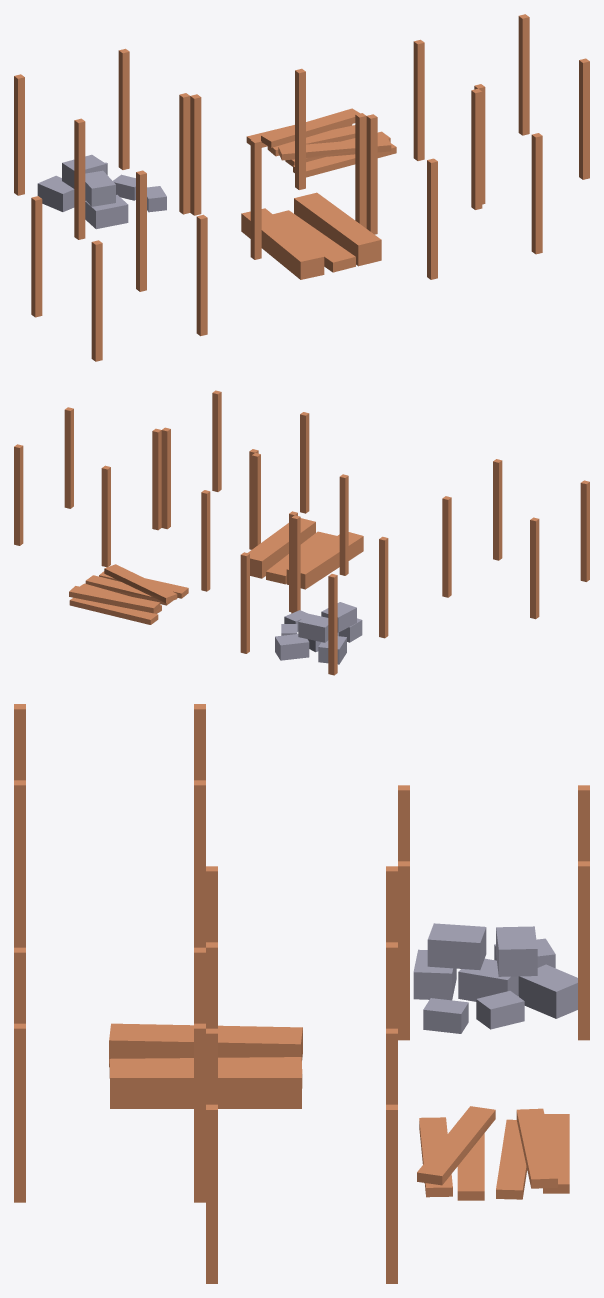
Rendered from Maison2_plan.fbx.
3 views of the same model, one above another, from view 1: azimuth 30°, elevation 25°; view 2: azimuth 150°, elevation 25°; view 3: azimuth 270°, elevation 25° (orthographic). The views are drawn at different scales.
Parts seen in each view (by area): view 1: planks_floorHalf_481, structure_poles_479, structure_poles_478, structure_poles_480, structure_poles_477, structure_poles_476, debris_bricks_482, debris_wood_483; view 2: planks_floorHalf_481, debris_wood_483, structure_poles_476, structure_poles_479, structure_poles_478, debris_bricks_482, structure_poles_480, structure_poles_477; view 3: planks_floorHalf_481, debris_bricks_482, debris_wood_483, structure_poles_476, structure_poles_478, structure_poles_480, structure_poles_479, structure_poles_477.
Boxes of the visible parts, <box> form: planks_floorHalf_481: <box>241,192,381,279</box>; structure_poles_479: <box>31,170,207,361</box>; structure_poles_478: <box>14,48,190,239</box>; structure_poles_480: <box>366,88,542,279</box>; structure_poles_477: <box>190,68,366,259</box>; structure_poles_476: <box>413,14,589,204</box>; debris_bricks_482: <box>37,154,166,229</box>; debris_wood_483: <box>246,108,396,177</box>; planks_floorHalf_481: <box>248,518,363,589</box>; debris_wood_483: <box>69,564,188,624</box>; structure_poles_476: <box>14,407,161,567</box>; structure_poles_479: <box>442,459,589,619</box>; structure_poles_478: <box>240,515,388,675</box>; debris_bricks_482: <box>275,602,362,664</box>; structure_poles_480: <box>161,390,309,549</box>; structure_poles_477: <box>201,453,348,611</box>; planks_floorHalf_481: <box>109,1023,302,1108</box>; debris_bricks_482: <box>413,923,577,1033</box>; debris_wood_483: <box>417,1106,569,1200</box>; structure_poles_476: <box>206,1028,397,1283</box>; structure_poles_478: <box>398,785,589,1040</box>; structure_poles_480: <box>14,947,205,1202</box>; structure_poles_479: <box>14,704,205,947</box>; structure_poles_477: <box>206,866,397,1028</box>.
Bounding box in the file's own units: 50 × 10 × 30.
